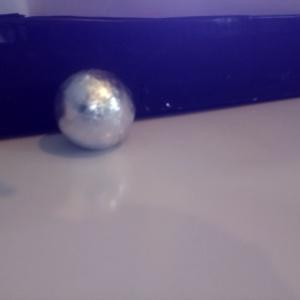zone: (1, 14, 300, 142)
